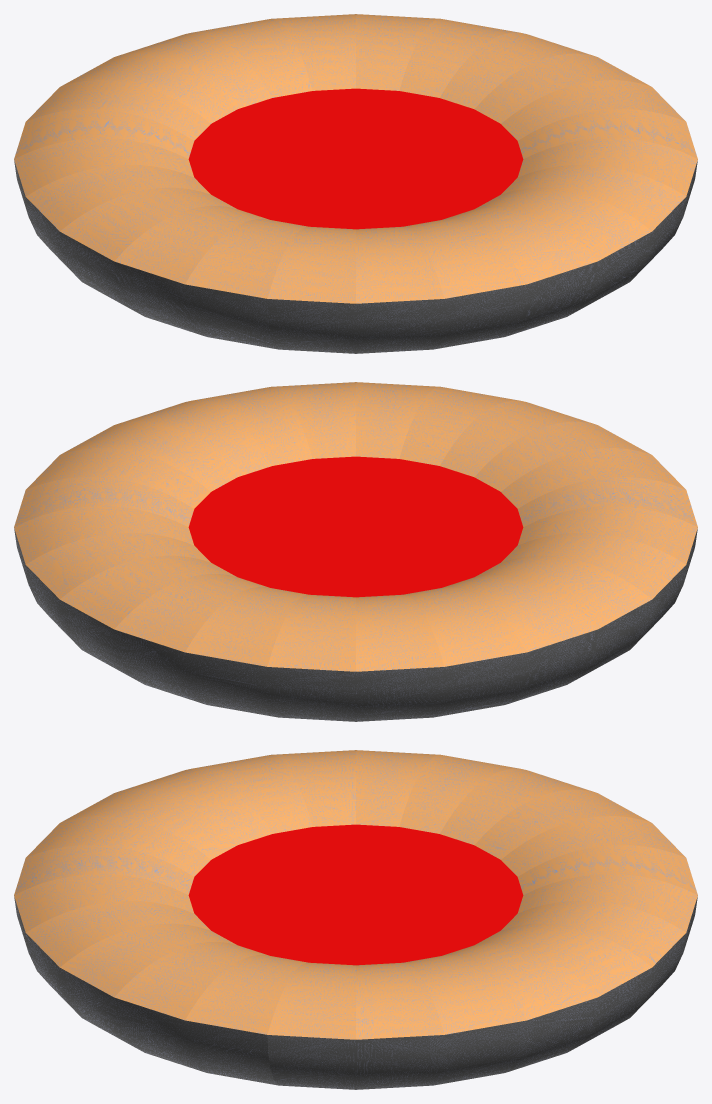
3 renders of one model, top to bottom at view 1: azimuth 30°, elevation 25°; view 2: azimuth 150°, elevation 25°; view 3: azimuth 270°, elevation 25°, orthographic.
Visible parts, largest first — view 1: piece_of_pie (×3); view 2: piece_of_pie (×3); view 3: piece_of_pie (×3).
Part boxes in pixels (x1,y1,x2,y2): piece_of_pie (×3): (14, 14, 697, 353); piece_of_pie (×3): (14, 382, 697, 721); piece_of_pie (×3): (14, 750, 697, 1089).
Bounding box in the file's own units: 5.88 × 5.88 × 0.9513.
